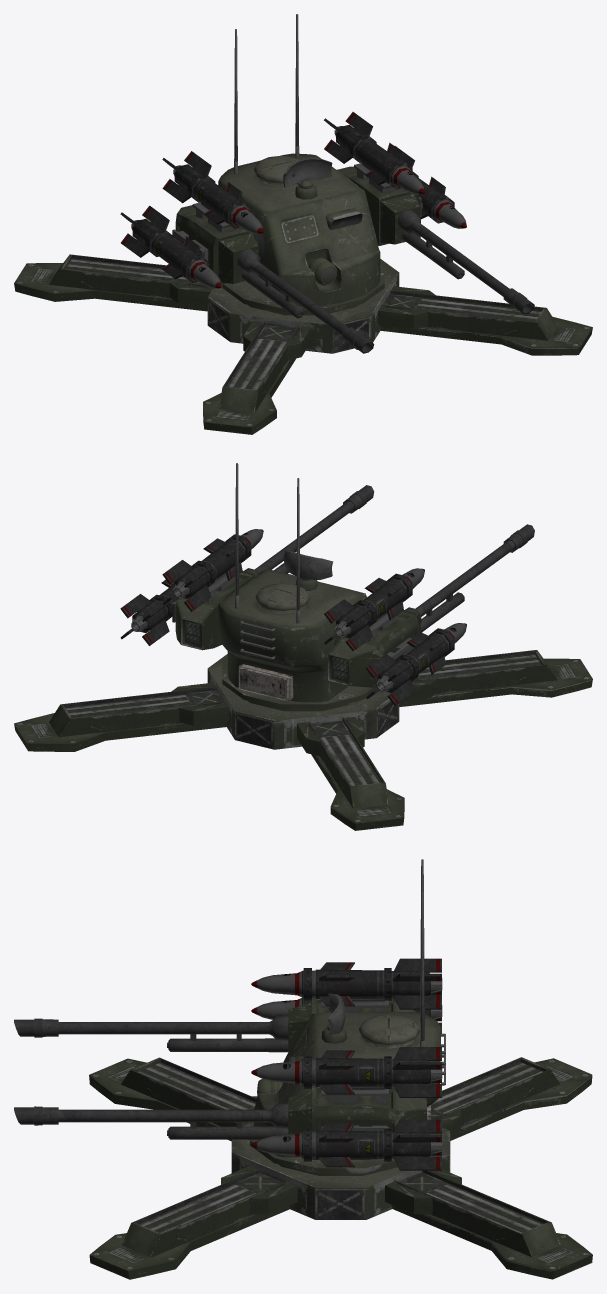
The model's file is flak_cannon_with_adats_missiles.glb.
3 views of the same model, one above another, from view 1: azimuth 30°, elevation 25°; view 2: azimuth 150°, elevation 25°; view 3: azimuth 270°, elevation 25° (orthographic). The views are drawn at different scales.
Visible parts, largest first — view 1: Object_3, Object_2; view 2: Object_3, Object_2; view 3: Object_3, Object_2.
Boxes of the visible parts, bbox=[...] form: Object_3: bbox=[14, 14, 592, 434]; Object_2: bbox=[120, 112, 534, 353]; Object_3: bbox=[14, 463, 592, 830]; Object_2: bbox=[120, 485, 534, 705]; Object_3: bbox=[89, 859, 592, 1279]; Object_2: bbox=[14, 958, 442, 1170].
Bounding box in the file's own units: 18.41 × 11.98 × 21.15.
Materials: 2 (2 with a texture image).
